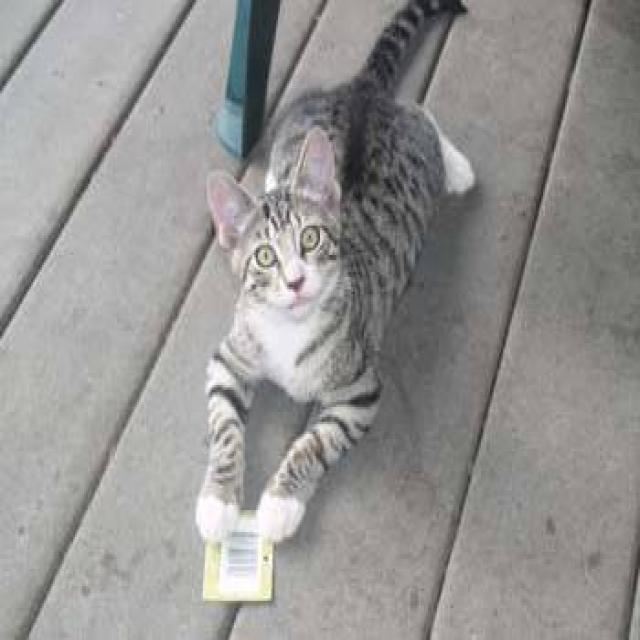cat: (193, 0, 475, 544)
